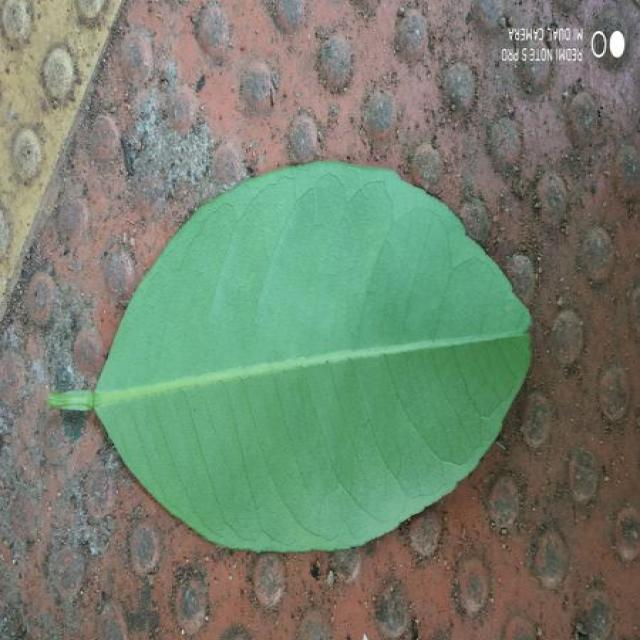citron lime: (60, 161, 530, 551)
